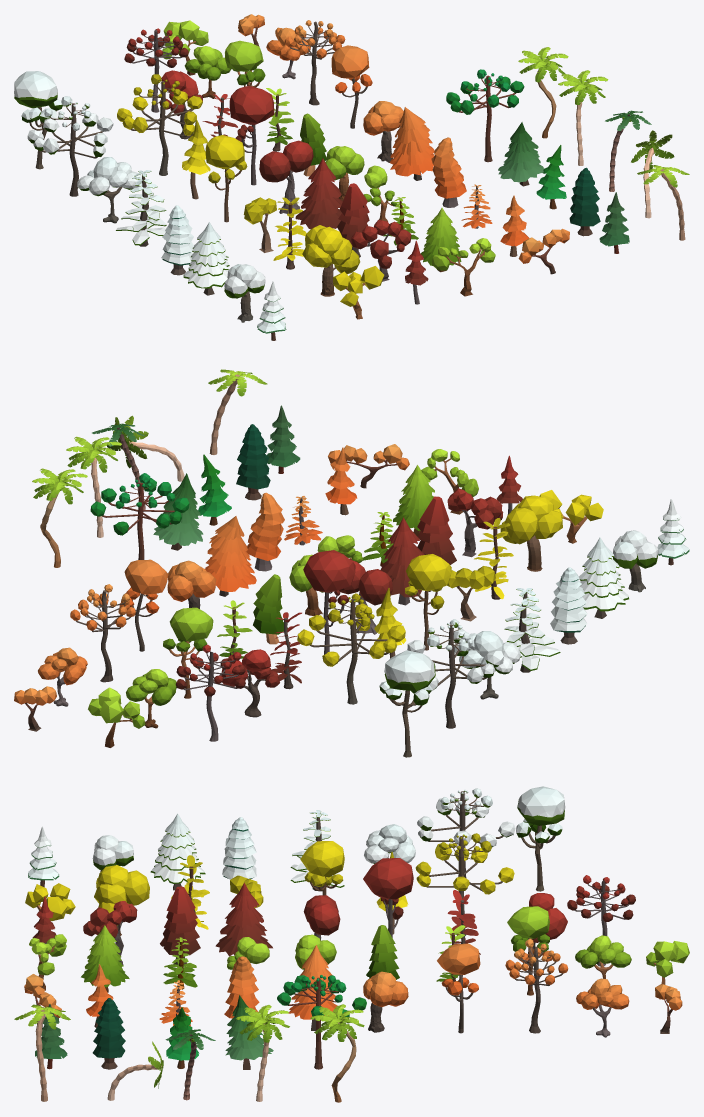
Rendered from BundleLowPolyTreesV1.fbx.
3 renders of one model, top to bottom at view 1: azimuth 30°, elevation 25°; view 2: azimuth 150°, elevation 25°; view 3: azimuth 270°, elevation 25°, orthographic. The views are drawn at different scales.
Parts seen in each view (by area): view 1: Snow05, AutumnYe05, AutumnYe01, AutmnOr04, AutumnRed02, Snow03, Summer02, Snow08, AutumnRed07, AutumnRed01, Snow02, Snow04 (+39 smaller); view 2: AutumnYe05, Summer02, Snow03, Snow05, AutumnYe01, AutmnOr04, Snow08, AutumnRed07, Snow04, AutumnYe04, AutumnRed08, Snow06 (+42 smaller); view 3: Snow03, AutumnYe05, Snow05, Snow08, AutumnRed07, AutumnRed02, Summer02, AutumnYe01, AutumnRed06, AutmnOr09, AutmnOr08, AutumnYe04 (+40 smaller).
Boxes of the visible parts, bbox=[...] form: Snow05: bbox=[27, 96, 113, 196]; AutumnYe05: bbox=[117, 74, 202, 175]; AutumnYe01: bbox=[302, 225, 360, 296]; AutmnOr04: bbox=[389, 107, 434, 180]; AutumnRed02: bbox=[295, 158, 342, 229]; Snow03: bbox=[14, 71, 62, 169]; Summer02: bbox=[446, 69, 524, 162]; Snow08: bbox=[183, 222, 229, 295]; AutumnRed07: bbox=[229, 86, 274, 185]; AutumnRed01: bbox=[259, 140, 313, 217]; Snow02: bbox=[77, 157, 141, 223]; Snow04: bbox=[116, 170, 166, 246]; AutumnYe05: bbox=[297, 593, 405, 704]; Summer02: bbox=[90, 473, 189, 559]; Snow03: bbox=[379, 650, 435, 757]; Snow05: bbox=[407, 619, 503, 728]; AutumnYe01: bbox=[500, 495, 562, 571]; AutmnOr04: bbox=[205, 516, 256, 596]; Snow08: bbox=[579, 537, 628, 618]; AutumnRed07: bbox=[303, 550, 355, 654]; Snow04: bbox=[503, 588, 560, 672]; AutumnYe04: bbox=[405, 554, 451, 650]; AutumnRed08: bbox=[176, 644, 245, 741]; Snow06: bbox=[550, 567, 587, 644]; Snow03: bbox=[516, 786, 565, 891]; AutumnYe05: bbox=[415, 833, 514, 935]; Snow05: bbox=[417, 788, 515, 889]; Snow08: bbox=[150, 813, 205, 890]; AutumnRed07: bbox=[363, 858, 413, 937]; AutumnRed02: bbox=[215, 882, 272, 956]; Summer02: bbox=[277, 975, 366, 1069]; AutumnYe01: bbox=[94, 865, 149, 935]; AutumnRed06: bbox=[160, 886, 200, 966]; AutmnOr09: bbox=[505, 939, 568, 1033]; AutmnOr08: bbox=[437, 943, 480, 1033]; AutumnYe04: bbox=[300, 841, 344, 895].
Bounding box in the file's own units: 85.42 × 16.38 × 95.69.
